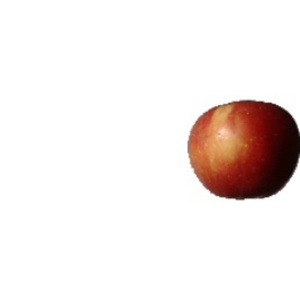maçã braeburn: (183, 100, 300, 202)
